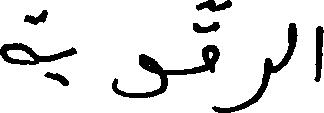X: (113, 49, 166, 102), (0, 10, 37, 69), (238, 53, 270, 112), (203, 0, 217, 112), (315, 21, 323, 86), (286, 18, 296, 69), (66, 42, 76, 90)
